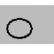no answer: (4, 15, 36, 40)
